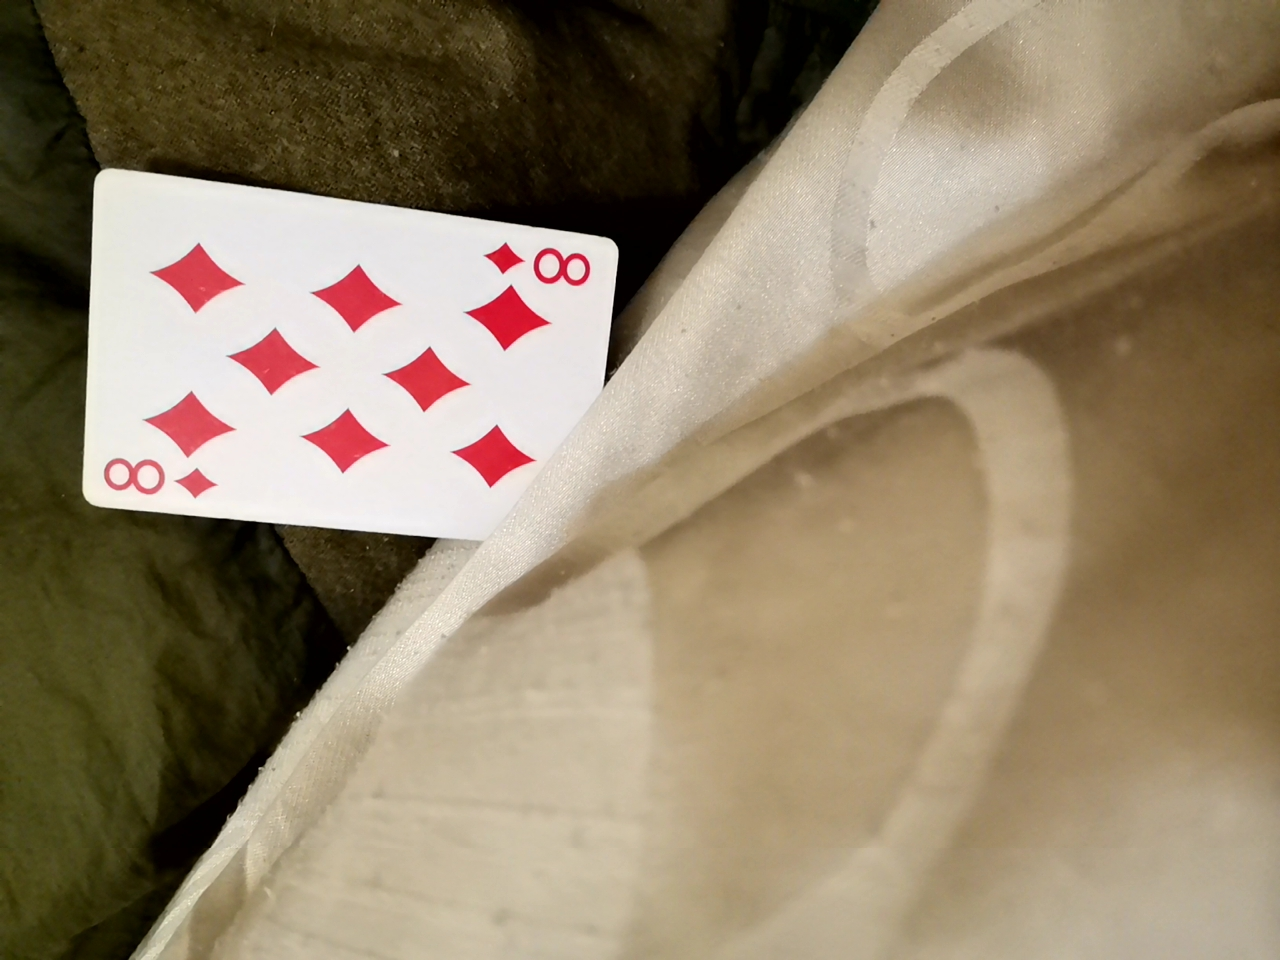fk 8: (54, 170, 628, 551)
